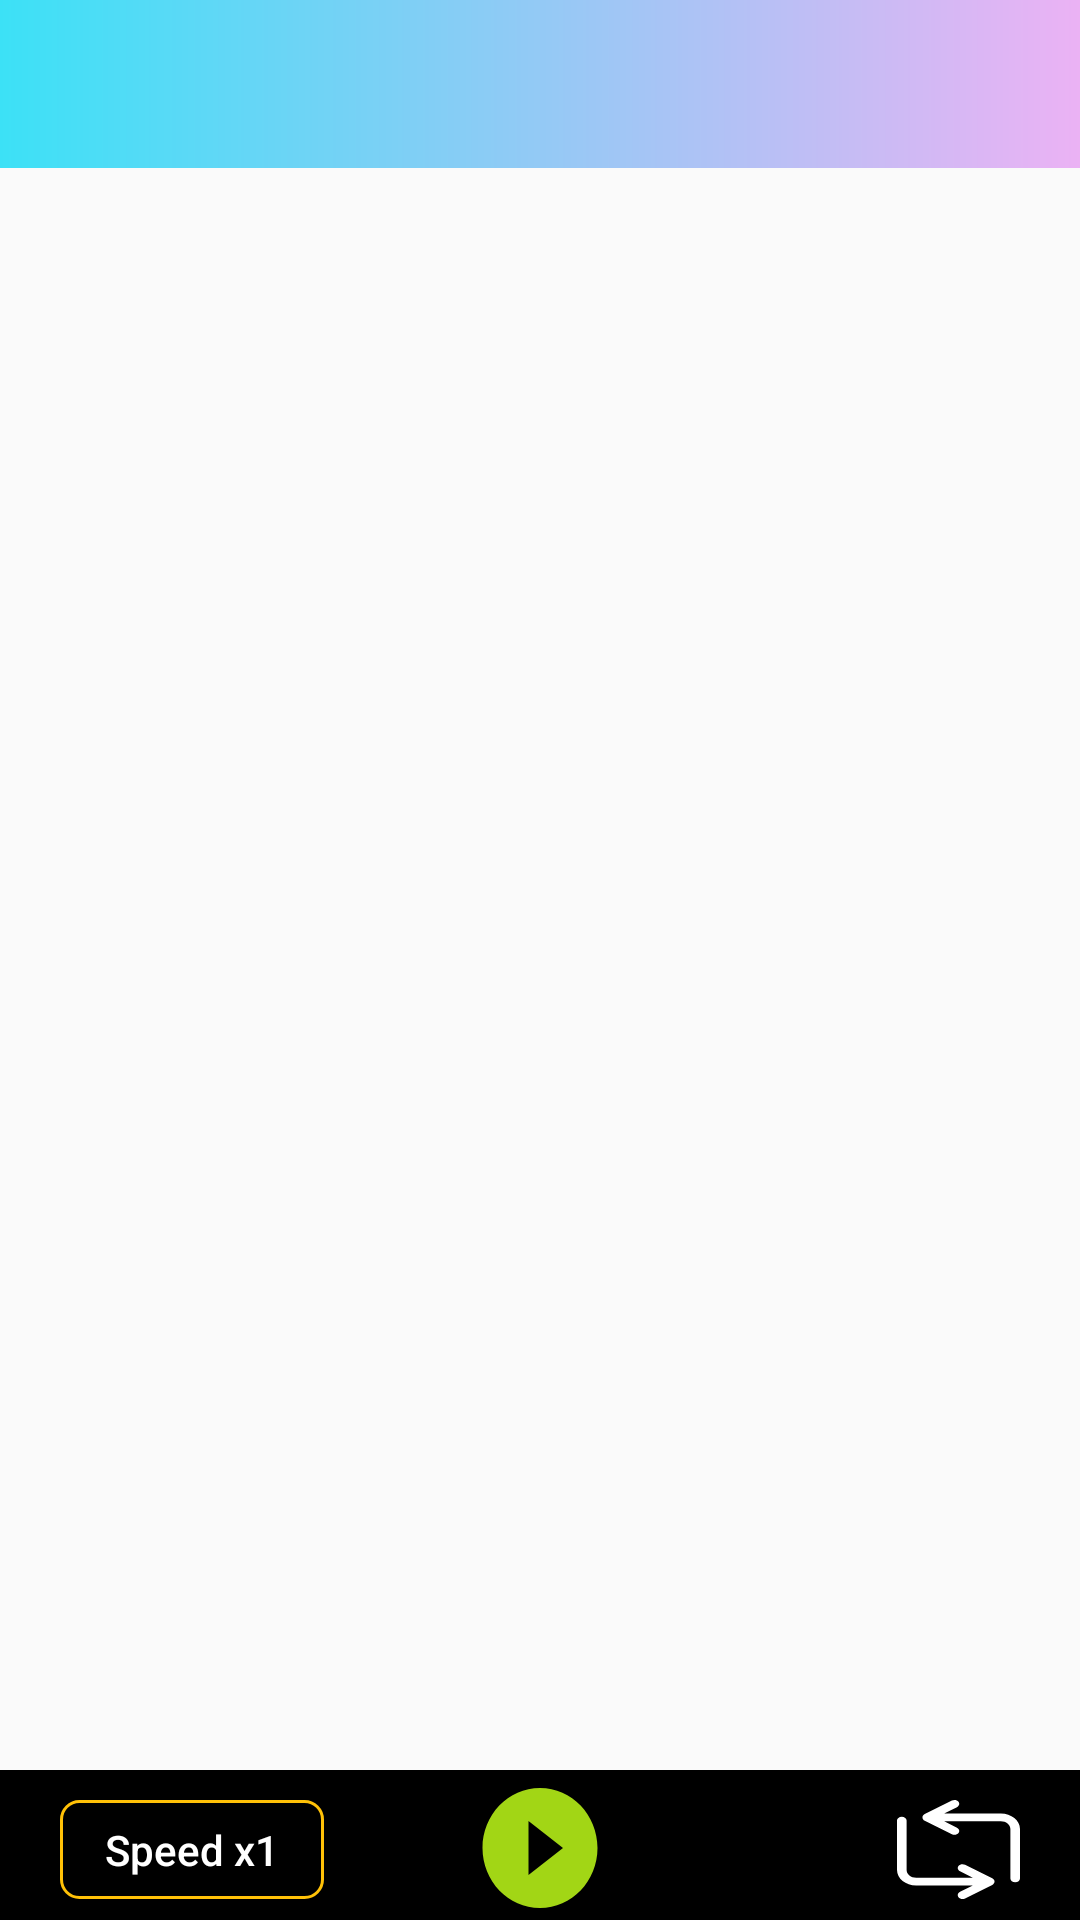

Named icons in this screenshot (1080px×1920px) and their centers, (x,y):
play circle: (540,1848)
repeatwhite: (958,1849)
